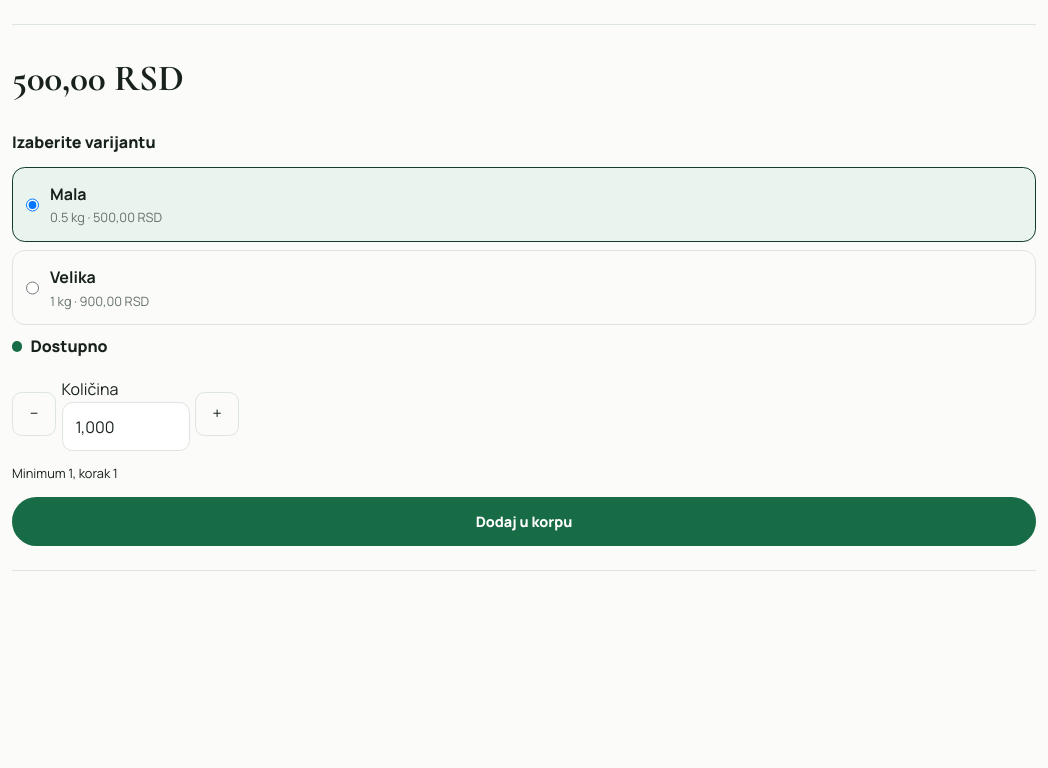
Test: product detail › variant changes price and backorder status
Click the radio button labelled "Velika 1 kg · 900,00 RSD". click: (32, 288)
box: top-left (26, 264), bottom-right (39, 312)
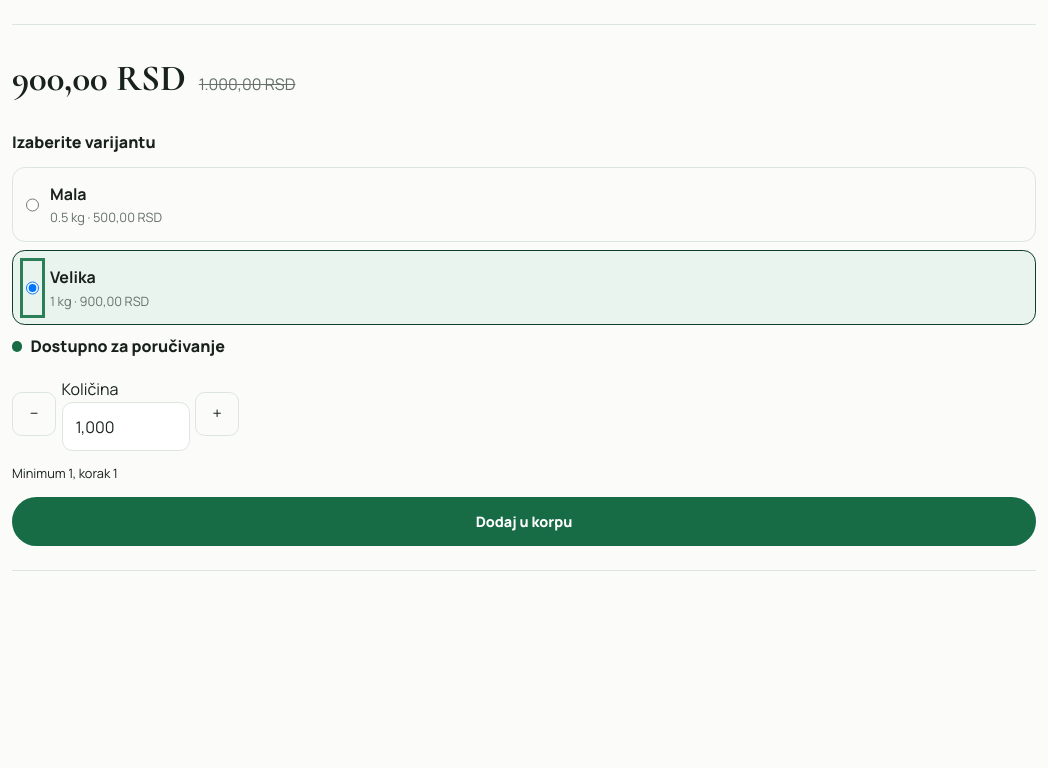
Now the text "900,00 RSD" is shown, box top-left (12, 49), bottom-right (186, 110)
Now the text "Dostupno za poručivanje" is shown, box top-left (12, 336), bottom-right (225, 358)
